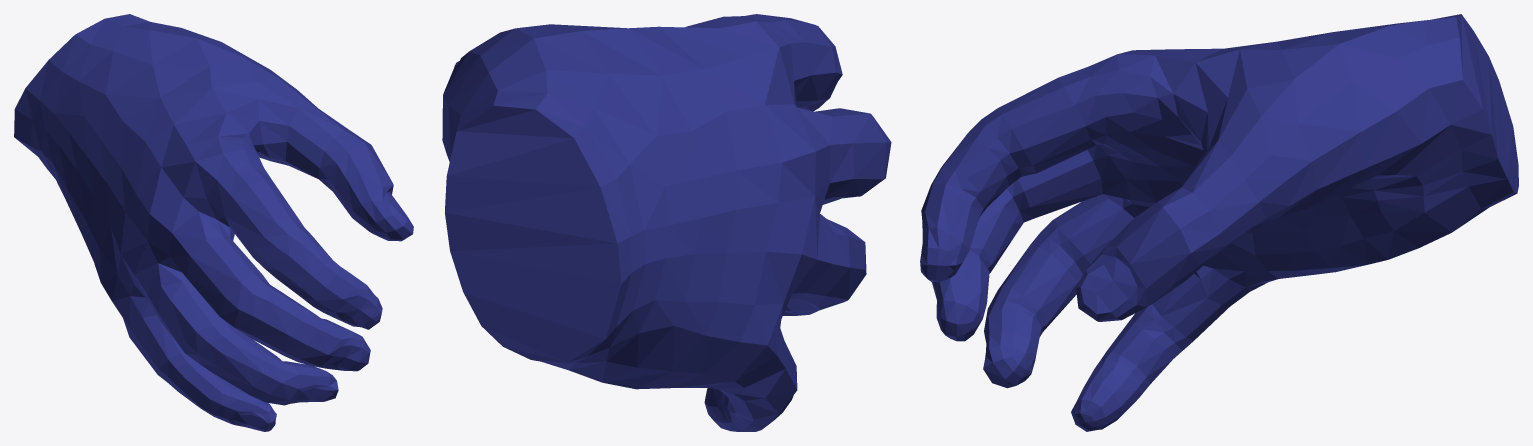
3 renders of one model, left to right at view 1: azimuth 30°, elevation 25°; view 2: azimuth 150°, elevation 25°; view 3: azimuth 270°, elevation 25°, orthographic. The views are drawn at different scales.
Bounding box in the file's own units: 0.1006 × 0.1221 × 0.1632.
